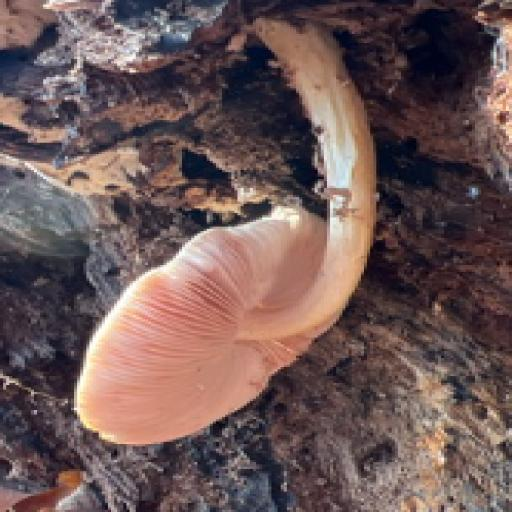Funeral Bell: (76, 17, 399, 453)
